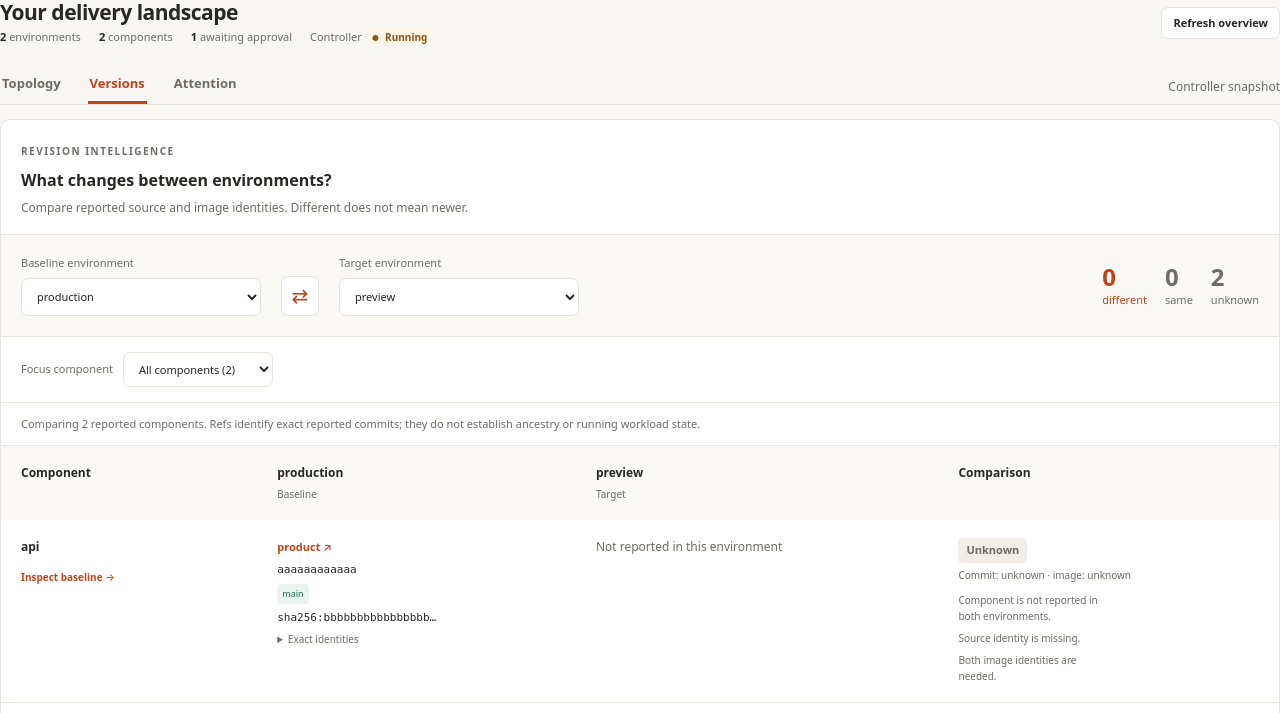
Test: opens version and attention views through their URL controls without writes
Click the button "Attention": (205, 87) [172,70,238,104]
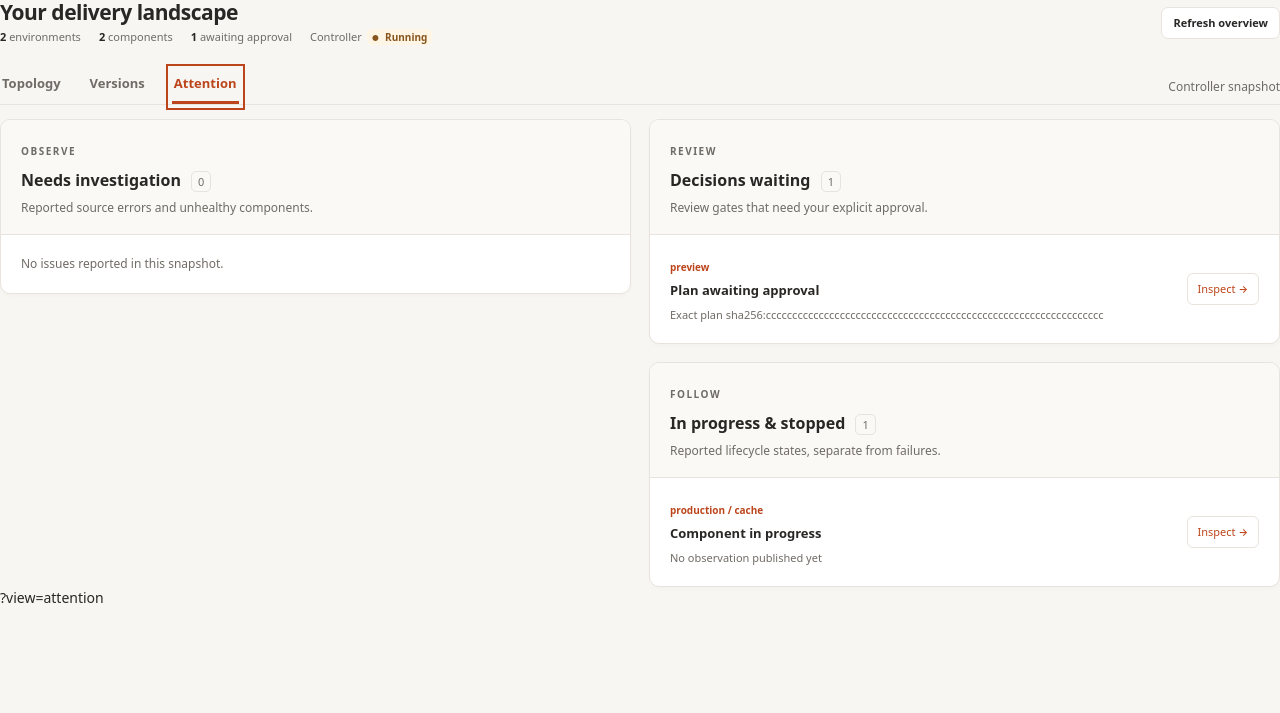
Check: the element "Decisions waiting" is shown, box [649,119,1279,344]
Check: the text named "Current location" reads "?view=attention", box [0,588,104,607]
Click the button "Topology": (31, 87) [0,70,63,104]
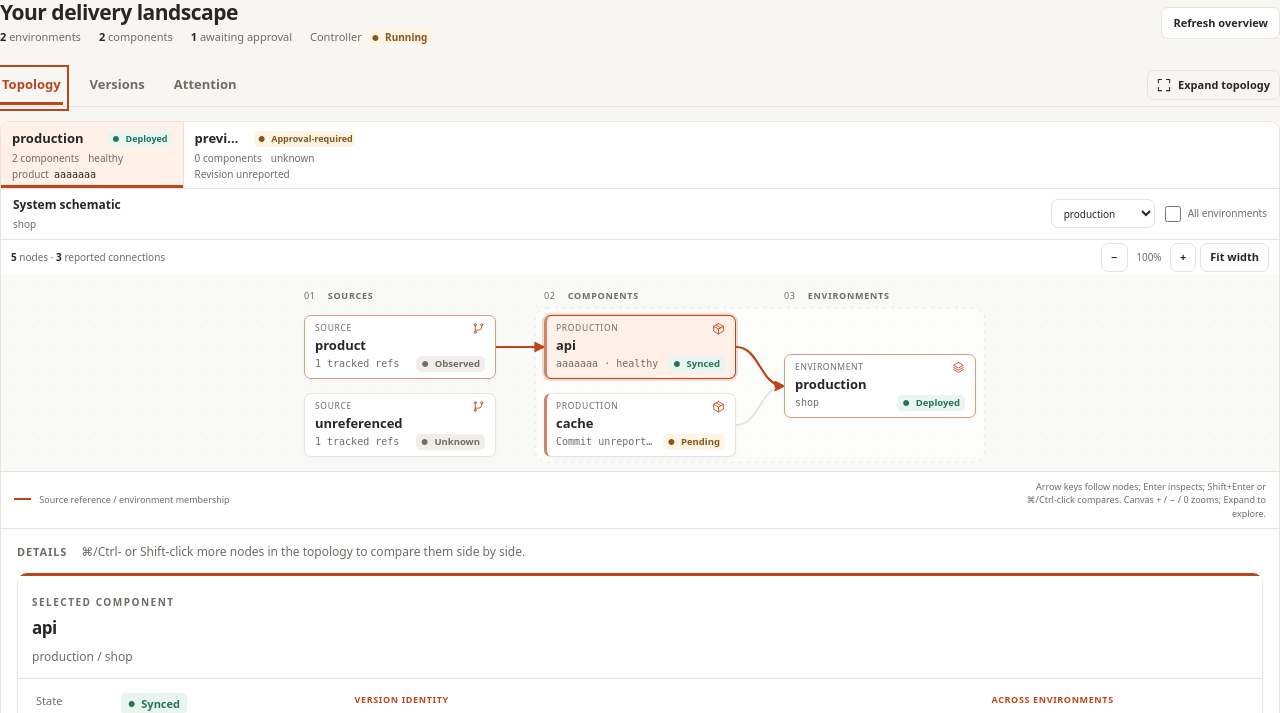
Check: the element named "Component dependencies" is shown, box [1,189,1279,529]
